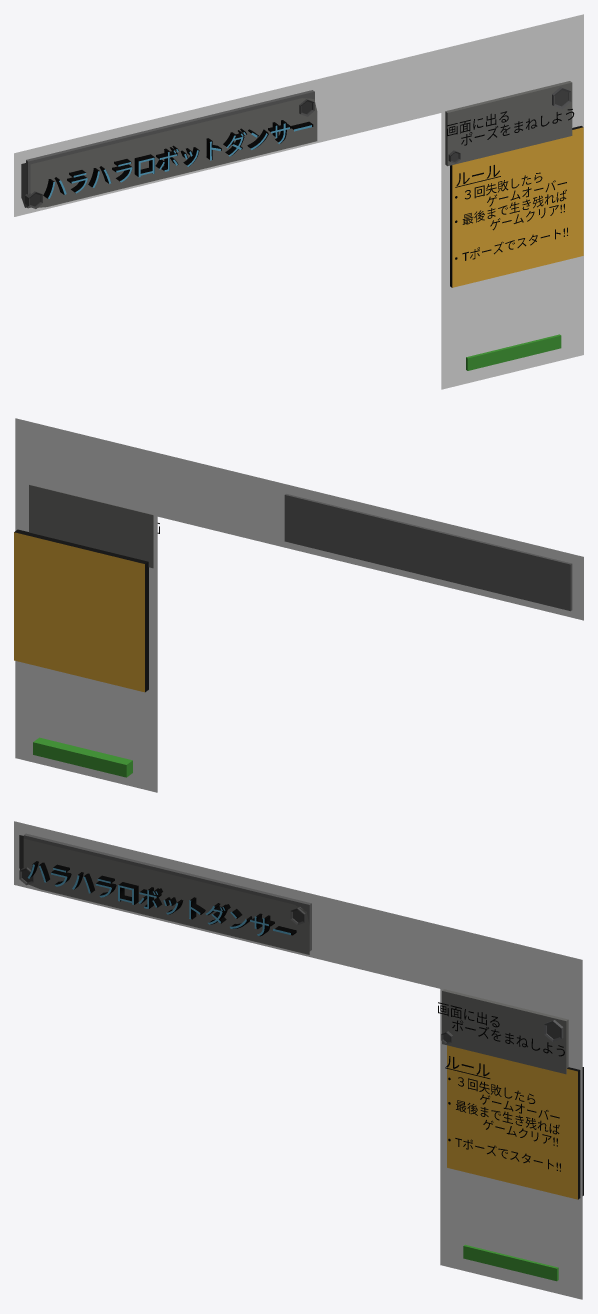
Rendered from ハラハラロボットダンサータイトル画面.fbx.
The picture shows the model from 3 angles, top to bottom: view 1: azimuth 30°, elevation 25°; view 2: azimuth 150°, elevation 25°; view 3: azimuth 330°, elevation 25°; orthographic projection.
Parts seen in each view (by area): view 1: 背景, ルール説明パネル, 手前パネル, パネル, 影, 後ろパネル, 説明 小, ローディング, 題名, 説明 大; view 2: 背景, ルール説明パネル, 後ろパネル, パネル, ローディング; view 3: 背景, ルール説明パネル, 手前パネル, パネル, 影, 後ろパネル, 説明 小, ローディング, 題名, 説明 大.
Boxes of the visible parts, x1=… form: 背景: x1=14, y1=14, x2=583, y2=389; ルール説明パネル: x1=450, y1=126, x2=583, y2=287; 手前パネル: x1=30, y1=98, x2=317, y2=207; パネル: x1=445, y1=81, x2=572, y2=166; 影: x1=43, y1=120, x2=313, y2=198; 後ろパネル: x1=26, y1=90, x2=314, y2=208; 説明 小: x1=455, y1=172, x2=567, y2=260; ローディング: x1=466, y1=334, x2=561, y2=370; 題名: x1=48, y1=123, x2=311, y2=198; 説明 大: x1=447, y1=109, x2=574, y2=145; 背景: x1=15, y1=418, x2=583, y2=792; ルール説明パネル: x1=14, y1=529, x2=148, y2=692; 後ろパネル: x1=284, y1=494, x2=572, y2=611; パネル: x1=29, y1=484, x2=153, y2=568; ローディング: x1=33, y1=737, x2=132, y2=777; 背景: x1=14, y1=821, x2=582, y2=1299; ルール説明パネル: x1=447, y1=1045, x2=583, y2=1199; 手前パネル: x1=23, y1=838, x2=309, y2=954; パネル: x1=442, y1=989, x2=568, y2=1074; 影: x1=27, y1=861, x2=296, y2=936; 後ろパネル: x1=23, y1=833, x2=311, y2=951; 説明 小: x1=448, y1=1077, x2=560, y2=1171; ローディング: x1=463, y1=1244, x2=558, y2=1281; 題名: x1=27, y1=864, x2=290, y2=935; 説明 大: x1=438, y1=1002, x2=564, y2=1056.
Bounding box in the file's own units: 2551 × 1457 × 128.
